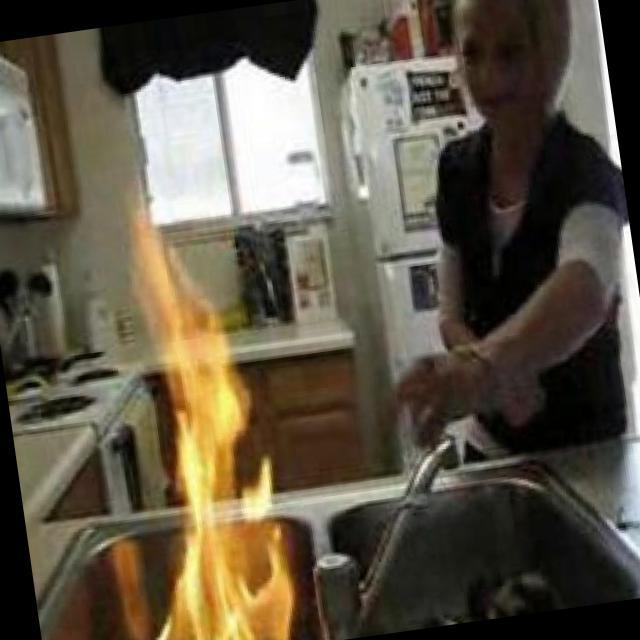Fire: (110, 194, 300, 640)
